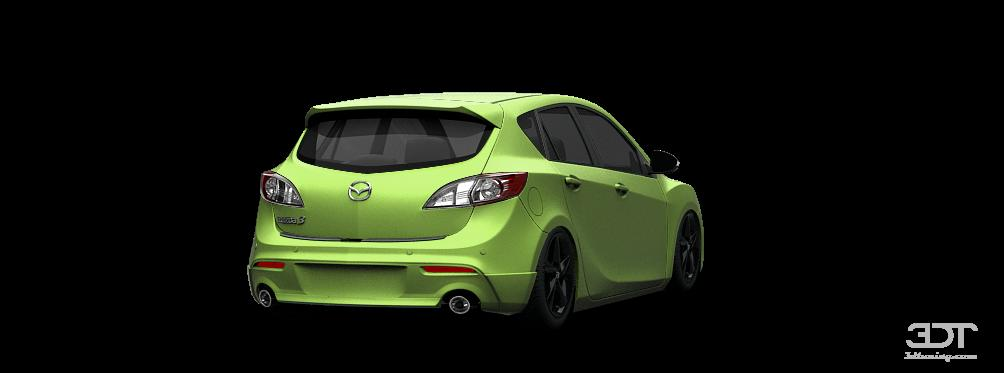Mazda3 Hatchback: (244, 79, 715, 333)
